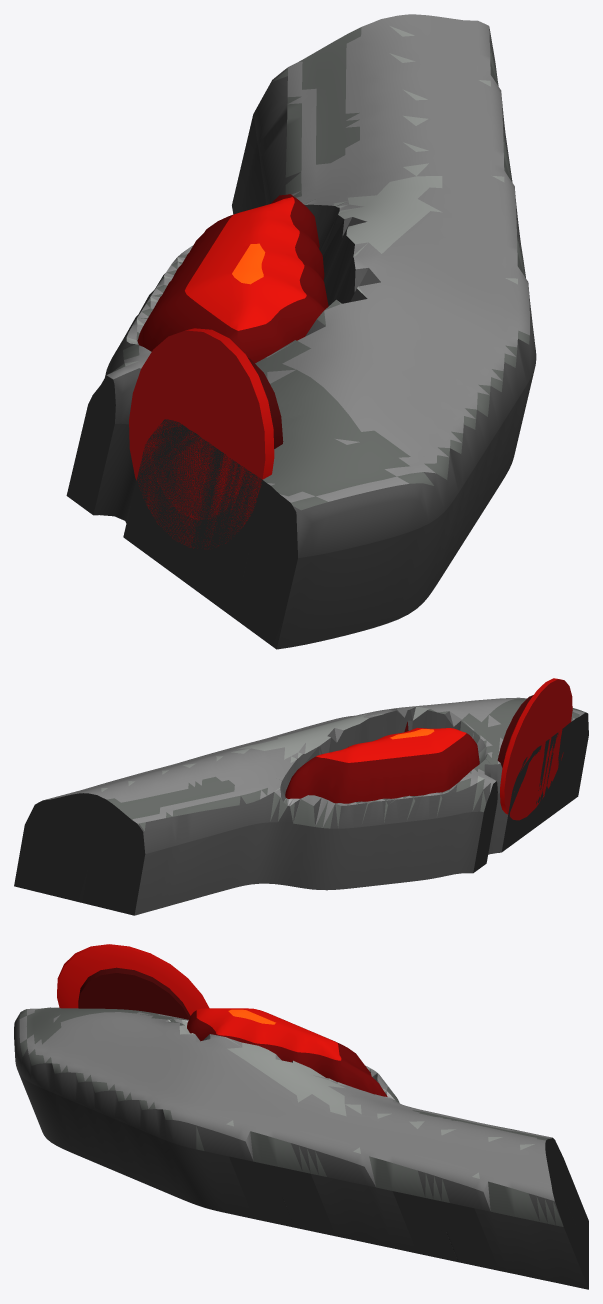
The model's file is pincer_r_jaw.glb.
The picture shows the model from 3 angles, top to bottom: view 1: azimuth 30°, elevation 25°; view 2: azimuth 150°, elevation 25°; view 3: azimuth 270°, elevation 25°; orthographic projection. The views are drawn at different scales.
Visible parts, largest first — view 1: pincer_r_jaw; view 2: pincer_r_jaw; view 3: pincer_r_jaw.
Boxes of the visible parts, x1,y1,x2,y2 form: pincer_r_jaw: [66, 14, 536, 649]; pincer_r_jaw: [14, 678, 588, 915]; pincer_r_jaw: [14, 944, 588, 1289].
Size of the model in its own units: 22 by 8.5 by 28.28.
